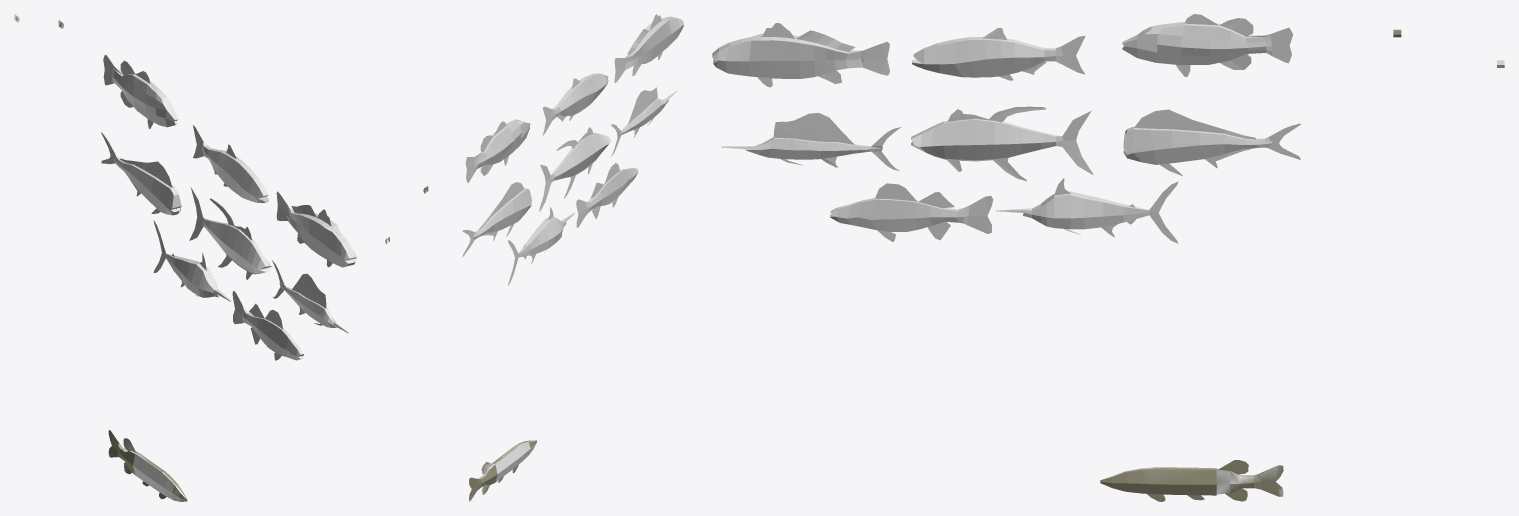
Rendered from uploads_files_2447640_LowPolyFish.fbx.
3 views of the same model, side by side, from view 1: azimuth 30°, elevation 25°; view 2: azimuth 150°, elevation 25°; view 3: azimuth 270°, elevation 25° (orthographic). The views are drawn at different scales.
Parts seen in each view (by area): view 1: Cube.006, Cube.002, Cube.005, Cube.010, Cube.009, Cube.004, Cube.003, Cube, Cube.001; view 2: Cube.006, Cube.005, Cube.002, Cube.010, Cube.009, Cube.004, Cube.003, Cube, Cube.001; view 3: Cube.006, Cube.002, Cube.005, Cube.010, Cube.009, Cube.004, Cube.003, Cube.001, Cube.
Boxes of the visible parts, x1,y1,x2,y2 form: Cube.006: (276, 191, 356, 267); Cube.002: (103, 55, 178, 128); Cube.005: (189, 187, 272, 279); Cube.010: (101, 132, 181, 215); Cube.009: (193, 125, 268, 203); Cube.004: (232, 291, 303, 360); Cube.003: (108, 430, 187, 501); Cube: (153, 220, 231, 301); Cube.001: (272, 260, 348, 333); Cube.006: (614, 14, 683, 83); Cube.005: (539, 127, 610, 211); Cube.002: (465, 119, 530, 182); Cube.010: (462, 182, 531, 257); Cube.009: (542, 73, 608, 135); Cube.004: (576, 163, 638, 227); Cube.003: (469, 440, 536, 501); Cube: (507, 207, 574, 285); Cube.001: (611, 87, 676, 156); Cube.006: (712, 23, 889, 87); Cube.002: (1122, 14, 1292, 76); Cube.005: (911, 106, 1093, 181); Cube.010: (1123, 109, 1301, 176); Cube.009: (912, 28, 1085, 80); Cube.004: (830, 183, 993, 241); Cube.003: (1100, 460, 1283, 501); Cube.001: (721, 113, 900, 170); Cube: (996, 178, 1178, 243).
Bounding box in the file's own units: 19.28 × 466 × 687.
